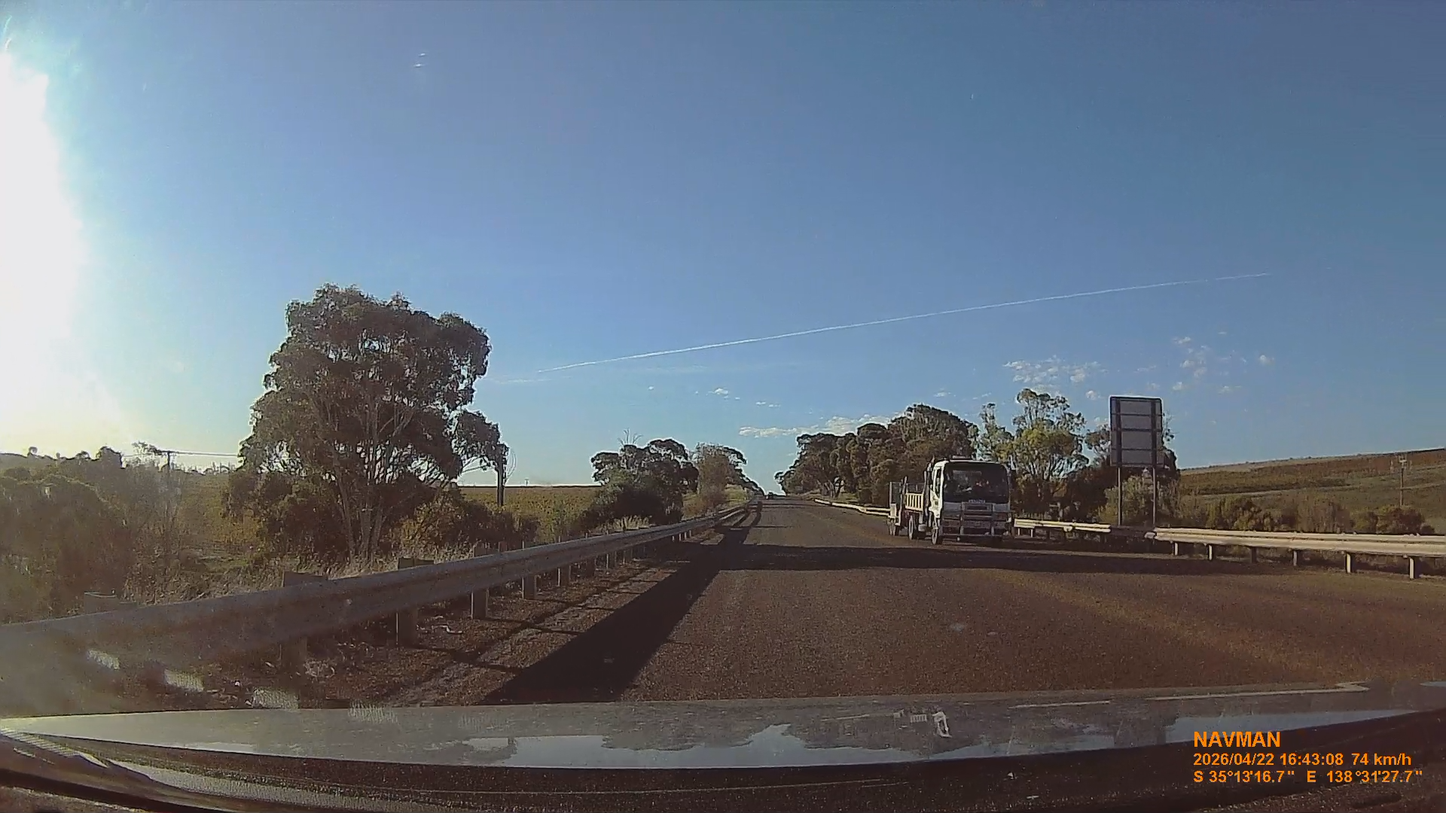road barriers: (0, 504, 760, 714), (1146, 528, 1445, 559)
